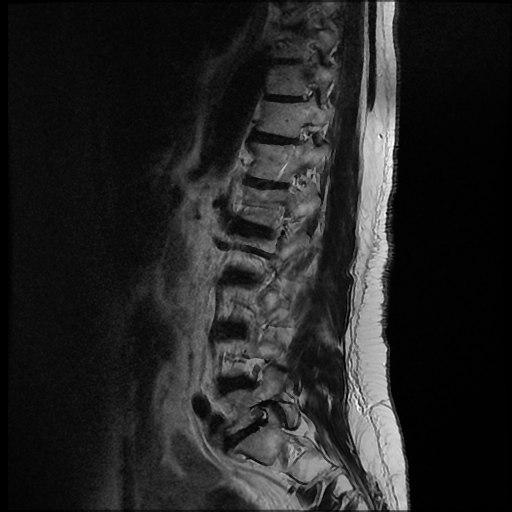LFS3: (238, 395, 280, 441)
